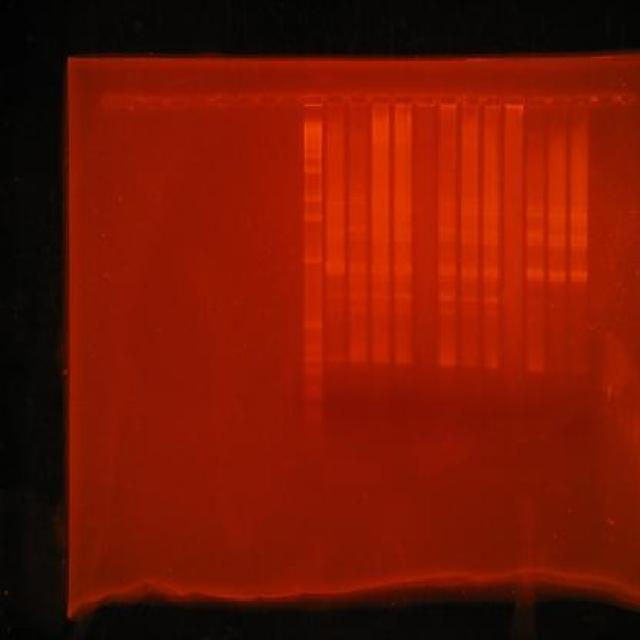B: (568, 360, 590, 374), (436, 357, 458, 368), (348, 354, 367, 366), (526, 362, 546, 373), (393, 356, 413, 367), (370, 354, 390, 364), (437, 198, 457, 208), (482, 359, 500, 370), (438, 293, 458, 302), (393, 293, 413, 302), (326, 354, 344, 364), (460, 358, 478, 368), (524, 297, 544, 306), (346, 292, 368, 300), (324, 262, 346, 270), (392, 262, 414, 270), (460, 228, 478, 237), (547, 270, 567, 278), (526, 270, 546, 278), (370, 292, 390, 300), (370, 262, 390, 270), (392, 235, 412, 243), (326, 270, 346, 278), (347, 304, 367, 312), (437, 307, 457, 315), (324, 228, 346, 235), (348, 262, 367, 270), (570, 270, 588, 278), (482, 297, 500, 305), (460, 296, 478, 304), (460, 209, 478, 217), (570, 204, 588, 212), (394, 307, 412, 315), (482, 310, 500, 318), (547, 235, 567, 242), (392, 228, 412, 235), (437, 208, 457, 215), (392, 270, 414, 276), (438, 225, 456, 232), (547, 277, 567, 283), (459, 272, 479, 278), (459, 267, 479, 273), (568, 241, 588, 247), (546, 242, 566, 248), (526, 236, 546, 242), (526, 241, 546, 247), (526, 230, 546, 236), (438, 264, 458, 270), (458, 203, 478, 209), (568, 212, 588, 218), (547, 212, 567, 218), (547, 206, 567, 212), (370, 270, 390, 276), (526, 276, 545, 282), (569, 236, 588, 242), (348, 268, 367, 274), (525, 212, 544, 218), (525, 206, 544, 212), (348, 224, 367, 230), (570, 277, 588, 283), (482, 268, 500, 274), (482, 274, 500, 280), (438, 271, 456, 277), (460, 238, 478, 244), (438, 237, 456, 243), (438, 232, 456, 238), (482, 240, 500, 246), (348, 234, 366, 240)
M: (302, 110, 326, 438)
P: (304, 406, 322, 432), (302, 384, 322, 402), (302, 364, 322, 382), (303, 318, 323, 330), (302, 254, 322, 266), (304, 352, 322, 365), (303, 193, 322, 204), (304, 342, 322, 353), (304, 163, 322, 174), (302, 213, 322, 222), (304, 151, 322, 160), (304, 143, 322, 151)
Pc: (124, 93, 148, 112), (436, 90, 458, 110), (100, 92, 123, 111), (235, 93, 258, 109), (148, 94, 168, 112), (394, 90, 414, 108), (416, 90, 436, 108), (462, 92, 482, 110), (617, 90, 637, 108), (258, 92, 280, 108), (302, 92, 324, 108), (593, 93, 615, 109), (528, 94, 548, 111), (550, 94, 570, 111), (572, 93, 592, 110), (211, 94, 232, 110), (370, 92, 392, 106), (169, 96, 188, 112), (348, 91, 367, 107), (483, 94, 502, 110), (190, 95, 208, 111), (504, 95, 526, 108), (282, 92, 302, 106), (324, 93, 344, 107)
